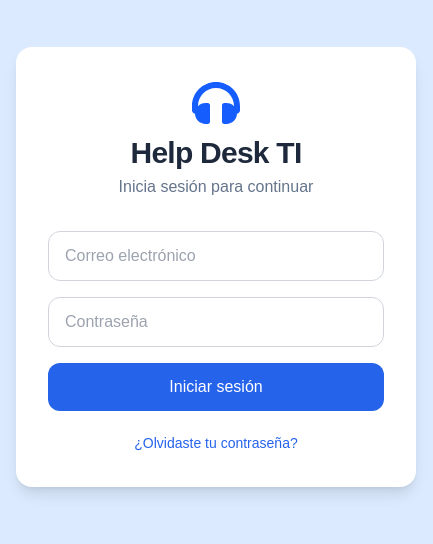
Test case: LoginPage › debe validar los campos con Zod antes de enviar al backend
The image size is (433, 544).
# Correo con formato correcto, pero contraseña muy corta (falla Zod, pasa navegador)
Type "test@test.com" into the field with placeholder "Correo electrónico".
click(216, 256); type("test@test.com")  # box [48, 231, 384, 281]
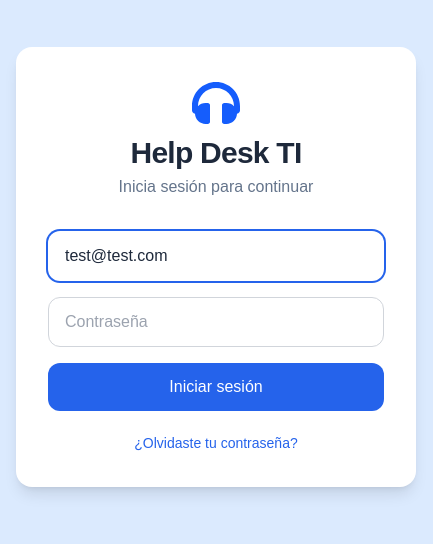
Type "123" into the password field with placeholder "Contraseña".
click(216, 322); type("123")  # box [48, 297, 384, 347]
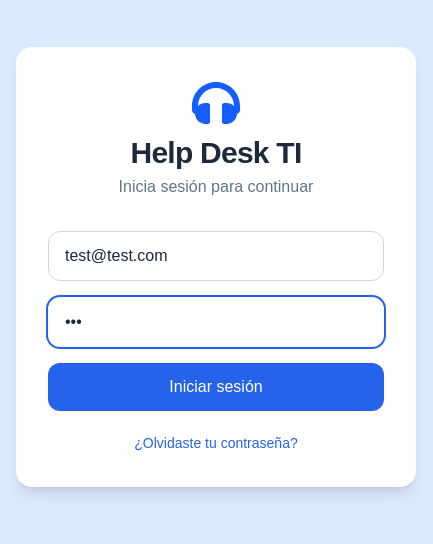
Click the button "Iniciar sesión".
click(216, 387)  # box [48, 363, 384, 411]
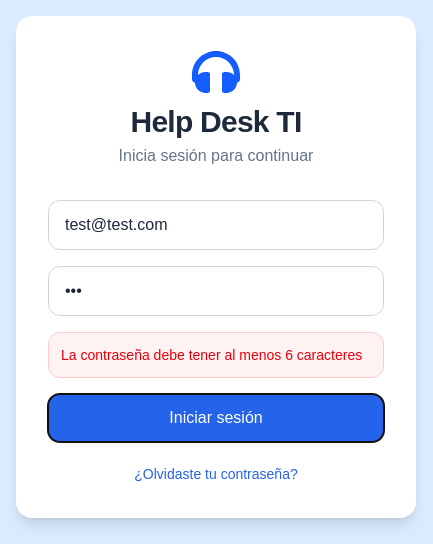
Check: the text "La contraseña debe tener al menos 6 caracteres" is shown, box [48, 332, 384, 378]
